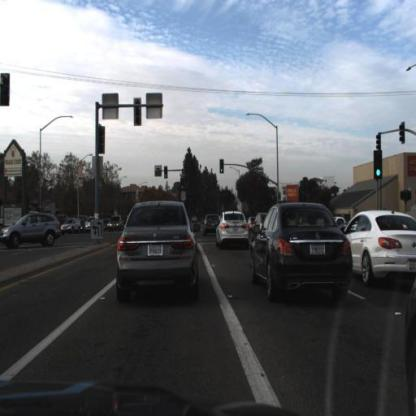car: (246, 196, 354, 310), (338, 187, 415, 289), (117, 206, 196, 303), (400, 267, 416, 413), (2, 215, 59, 244), (220, 208, 250, 248), (252, 207, 269, 252), (60, 217, 83, 239), (203, 210, 219, 240), (244, 208, 258, 234), (59, 216, 79, 234), (222, 210, 236, 229), (84, 217, 97, 233)
trafficLight: (131, 102, 141, 127), (399, 121, 408, 147), (99, 126, 107, 155), (375, 136, 383, 153)
trafficLight-Green: (375, 152, 383, 178), (219, 158, 227, 177), (163, 168, 171, 182), (179, 181, 187, 194), (164, 165, 170, 181), (180, 178, 185, 194), (220, 160, 225, 174), (273, 192, 278, 205)
